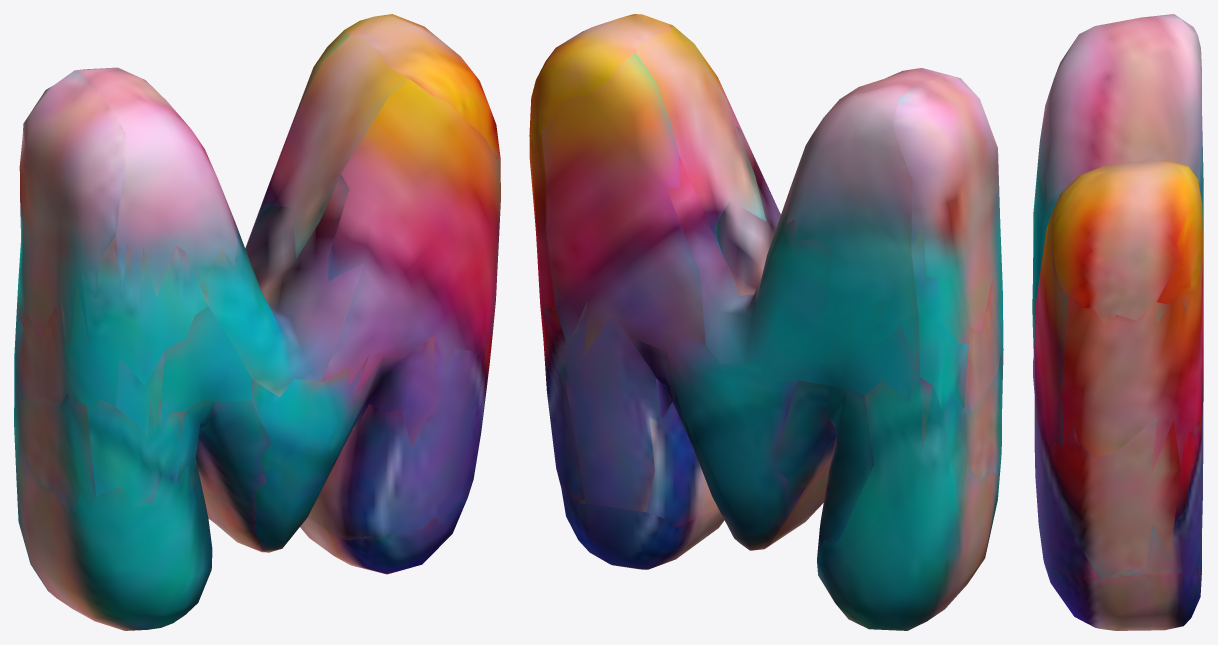
The picture shows the model from 3 angles, left to right: view 1: azimuth 30°, elevation 25°; view 2: azimuth 150°, elevation 25°; view 3: azimuth 270°, elevation 25°; orthographic projection. The views are drawn at different scales.
Parts seen in each view (by area): view 1: Candy-Letter-M; view 2: Candy-Letter-M; view 3: Candy-Letter-M.
Boxes of the visible parts, x1=… form: Candy-Letter-M: x1=14, y1=14, x2=500, y2=630; Candy-Letter-M: x1=529, y1=14, x2=1003, y2=630; Candy-Letter-M: x1=1032, y1=14, x2=1203, y2=630.
Size of the model in its own units: 0.2985 by 0.3531 by 0.1123.
Materials: 1 (1 with a texture image).
